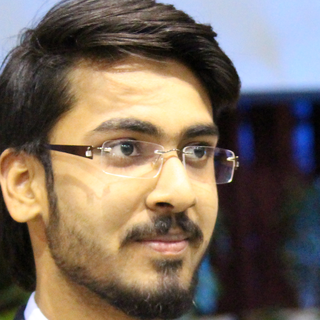eye: (100, 138, 149, 162), (176, 139, 213, 166)
